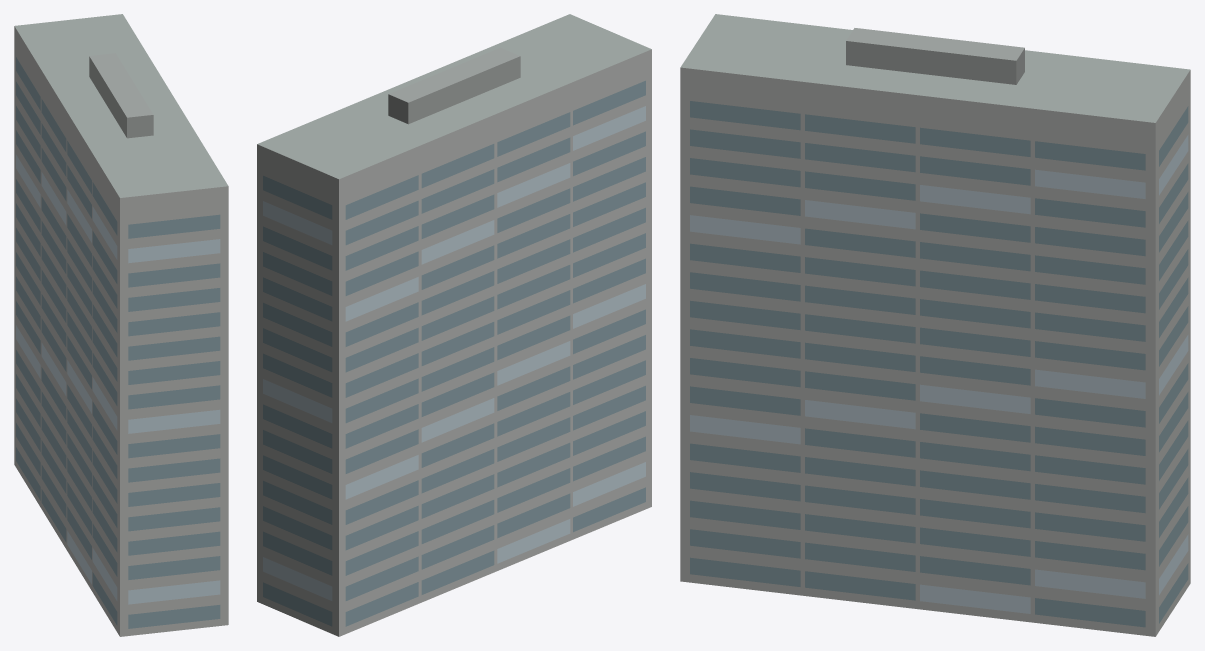
The model's file is apt-a13486703.glb.
3 views of the same model, side by side, from view 1: azimuth 30°, elevation 25°; view 2: azimuth 150°, elevation 25°; view 3: azimuth 270°, elevation 25° (orthographic). The views are drawn at different scales.
Visible parts, largest first — view 1: apt-a13486703; view 2: apt-a13486703; view 3: apt-a13486703.
Boxes of the visible parts, x1,y1,x2,y2 form: apt-a13486703: [14, 14, 228, 636]; apt-a13486703: [257, 14, 651, 636]; apt-a13486703: [680, 14, 1190, 636].
Size of the model in its own units: 21.29 by 49 by 42.1.
